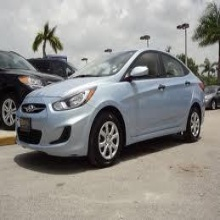no damage: (15, 49, 205, 167), (1, 48, 63, 134)
